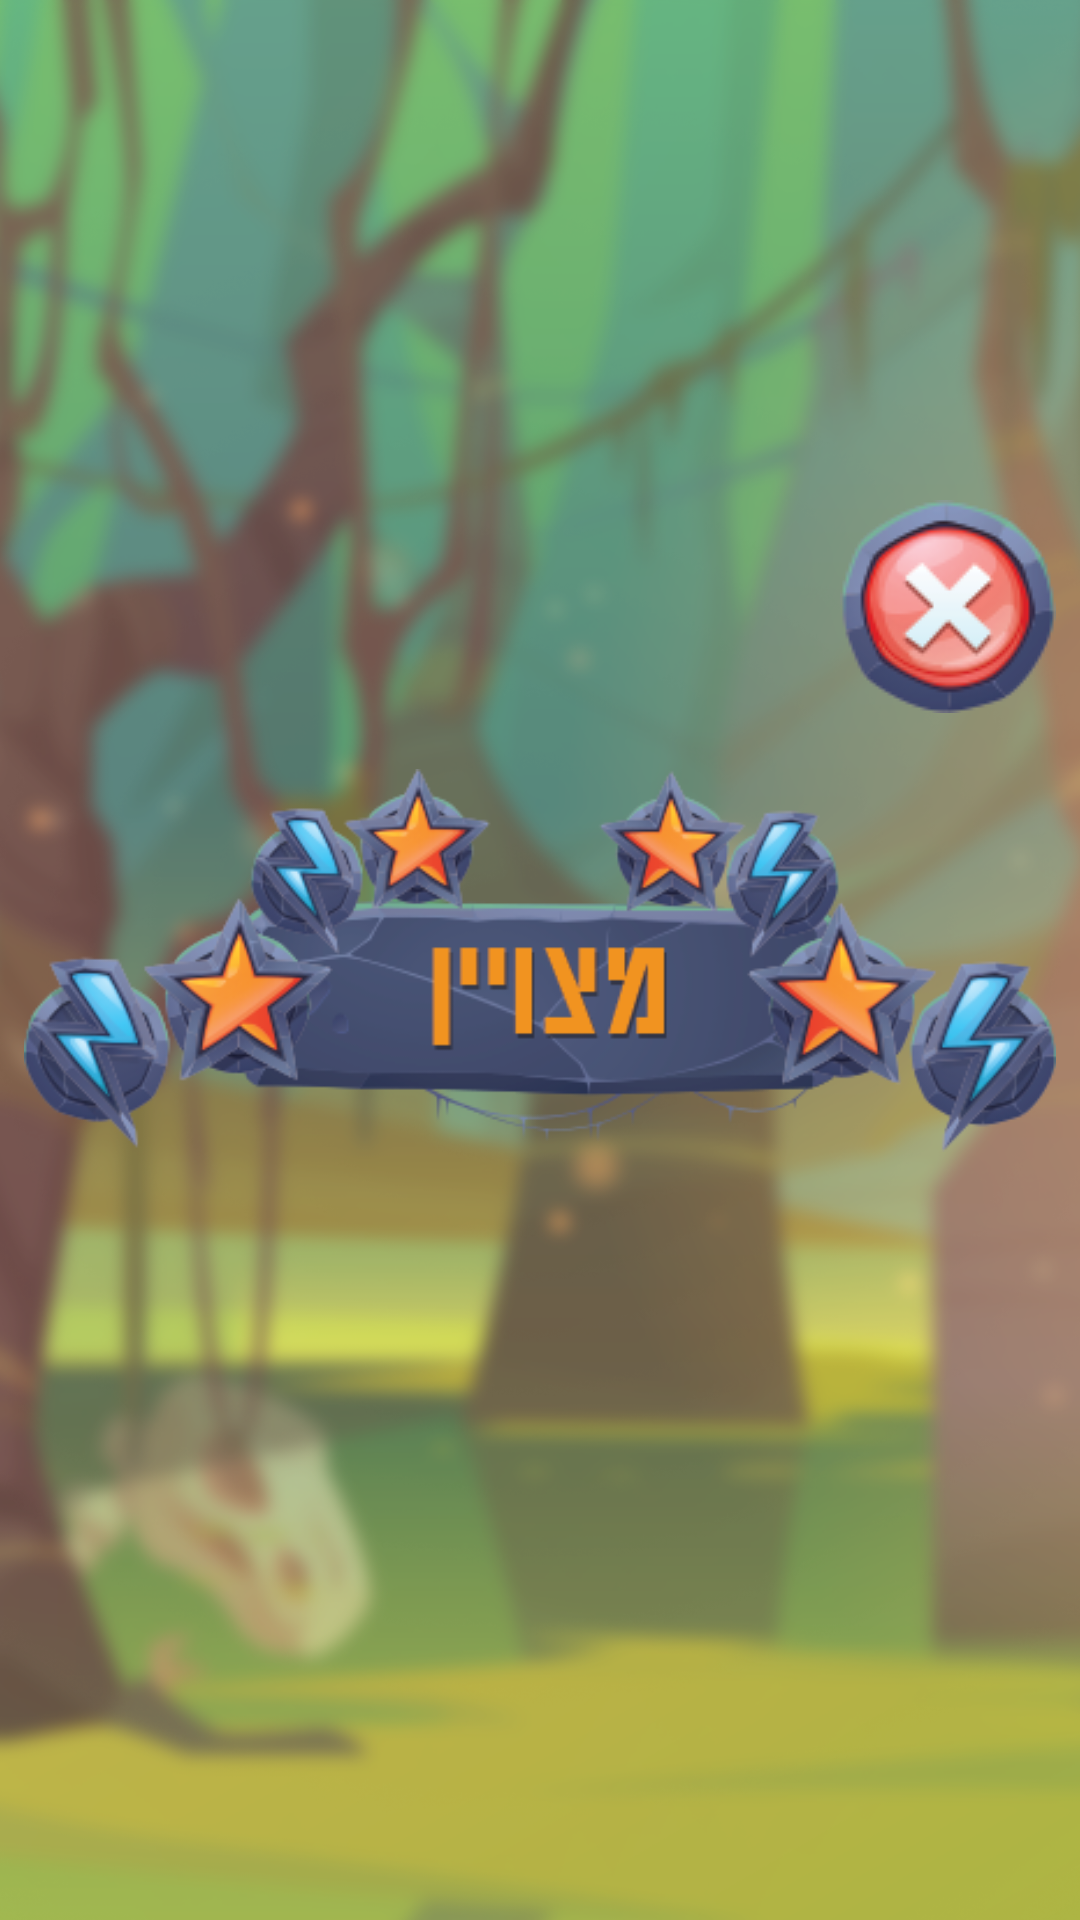

Locate icon controls on the screen. Image size 1080w x 1920h, boxes as BBox(x1, y1, x2, y2).
exit: BBox(844, 500, 1056, 713)
